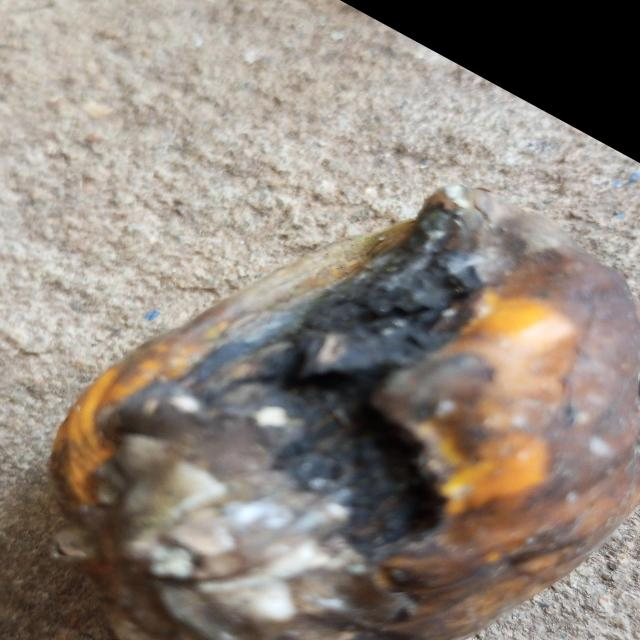damaged: (47, 190, 640, 640)
